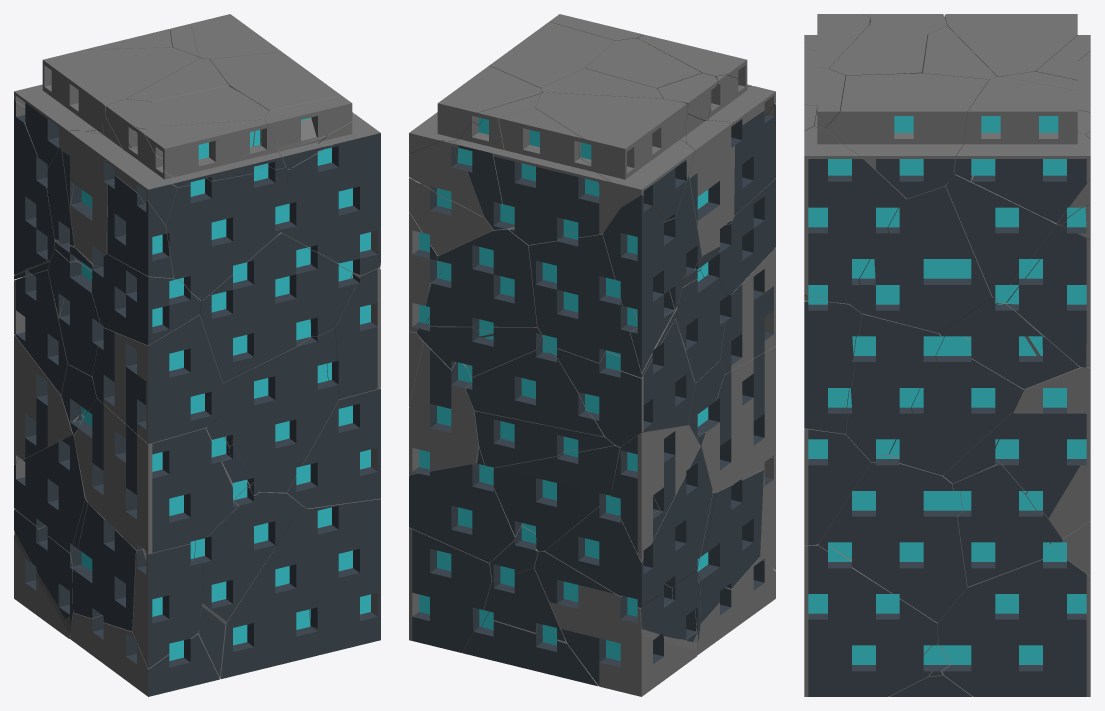
Rendered from LLShatteredCity2.fbx.
The picture shows the model from 3 angles, left to right: view 1: azimuth 30°, elevation 25°; view 2: azimuth 150°, elevation 25°; view 3: azimuth 270°, elevation 25°; orthographic projection. The views are drawn at different scales.
Visible parts, largest first — view 1: Cube.001_cell.063, Cube.001_cell.025, Cube.001_cell.034, Cube.001_cell.061, Cube.001_cell.060, Cube.001_cell.062, Cube.001_cell.024, Cube.001_cell.031, Cube.001_cell.064, Cube.001_cell.065, Cube.001_cell.005, Cube.001_cell.039 (+28 smaller); view 2: Cube.001_cell.031, Cube.001_cell.016, Cube.001_cell.053, Cube.001_cell.043, Cube.001_cell.022, Cube.001_cell.014, Cube.001_cell.046, Cube.001_cell.018, Cube.001_cell.063, Cube.001_cell.019, Cube.001_cell, Cube.001_cell.027 (+32 smaller); view 3: Cube.001_cell.019, Cube.001_cell.066, Cube.001_cell.024, Cube.001_cell.072, Cube.001_cell.017, Cube.001_cell.033, Cube.001_cell.061, Cube.001_cell.067, Cube.001_cell.036, Cube.001_cell.037, Cube.001_cell.035, Cube.001_cell.045 (+19 smaller).
Part boxes in pixels (bbox=[...]): Cube.001_cell.063: bbox=[74, 398, 249, 553]; Cube.001_cell.025: bbox=[199, 232, 356, 383]; Cube.001_cell.034: bbox=[217, 328, 339, 492]; Cube.001_cell.061: bbox=[275, 114, 380, 275]; Cube.001_cell.060: bbox=[92, 315, 222, 444]; Cube.001_cell.062: bbox=[166, 166, 287, 300]; Cube.001_cell.024: bbox=[276, 498, 380, 654]; Cube.001_cell.031: bbox=[14, 47, 199, 168]; Cube.001_cell.064: bbox=[219, 506, 319, 678]; Cube.001_cell.065: bbox=[287, 388, 380, 508]; Cube.001_cell.005: bbox=[194, 480, 302, 624]; Cube.001_cell.039: bbox=[132, 544, 202, 668]; Cube.001_cell.031: bbox=[535, 92, 694, 221]; Cube.001_cell.016: bbox=[493, 108, 620, 244]; Cube.001_cell.053: bbox=[534, 551, 697, 696]; Cube.001_cell.043: bbox=[545, 444, 712, 607]; Cube.001_cell.022: bbox=[528, 232, 677, 377]; Cube.001_cell.014: bbox=[542, 318, 694, 447]; Cube.001_cell.046: bbox=[422, 227, 537, 331]; Cube.001_cell.018: bbox=[492, 444, 620, 551]; Cube.001_cell.063: bbox=[697, 346, 775, 492]; Cube.001_cell.019: bbox=[409, 527, 492, 652]; Cube.001_cell: bbox=[603, 195, 682, 372]; Cube.001_cell.027: bbox=[409, 464, 515, 562]; Cube.001_cell.019: bbox=[937, 544, 1090, 696]; Cube.001_cell.066: bbox=[818, 454, 967, 622]; Cube.001_cell.024: bbox=[804, 544, 937, 696]; Cube.001_cell.072: bbox=[954, 76, 1090, 223]; Cube.001_cell.017: bbox=[814, 73, 988, 198]; Cube.001_cell.033: bbox=[849, 179, 997, 333]; Cube.001_cell.061: bbox=[804, 126, 906, 303]; Cube.001_cell.067: bbox=[889, 336, 1023, 475]; Cube.001_cell.036: bbox=[845, 313, 944, 462]; Cube.001_cell.037: bbox=[995, 363, 1090, 518]; Cube.001_cell.035: bbox=[952, 460, 1062, 586]; Cube.001_cell.045: bbox=[1006, 225, 1090, 367].
Bounding box in the file's own units: 96 × 212 × 96.
